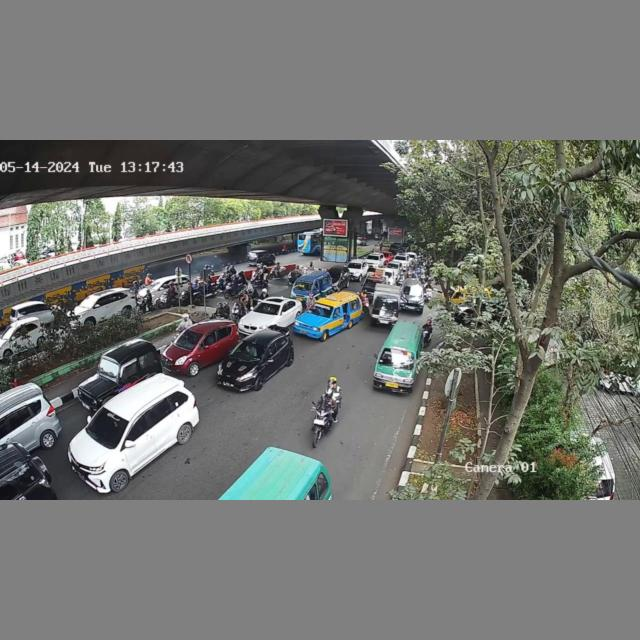windshield: (88, 408, 130, 447), (377, 346, 417, 374), (233, 341, 266, 362), (172, 328, 204, 349), (251, 302, 281, 317), (310, 303, 333, 316)
